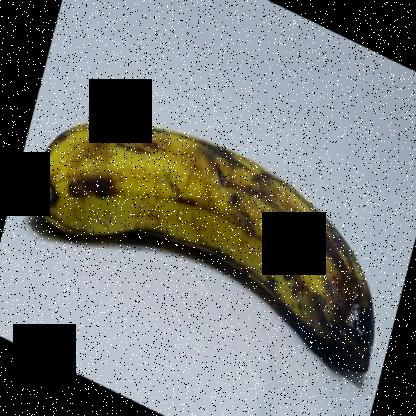overripe: (19, 110, 388, 390)
